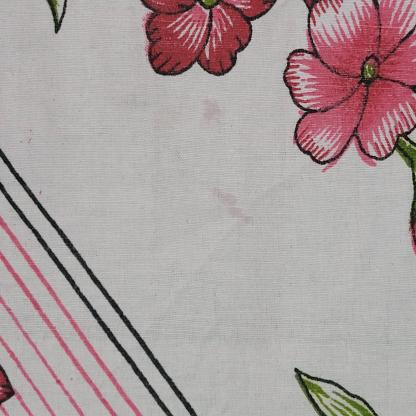spot: (214, 185, 254, 223), (200, 95, 227, 123)
